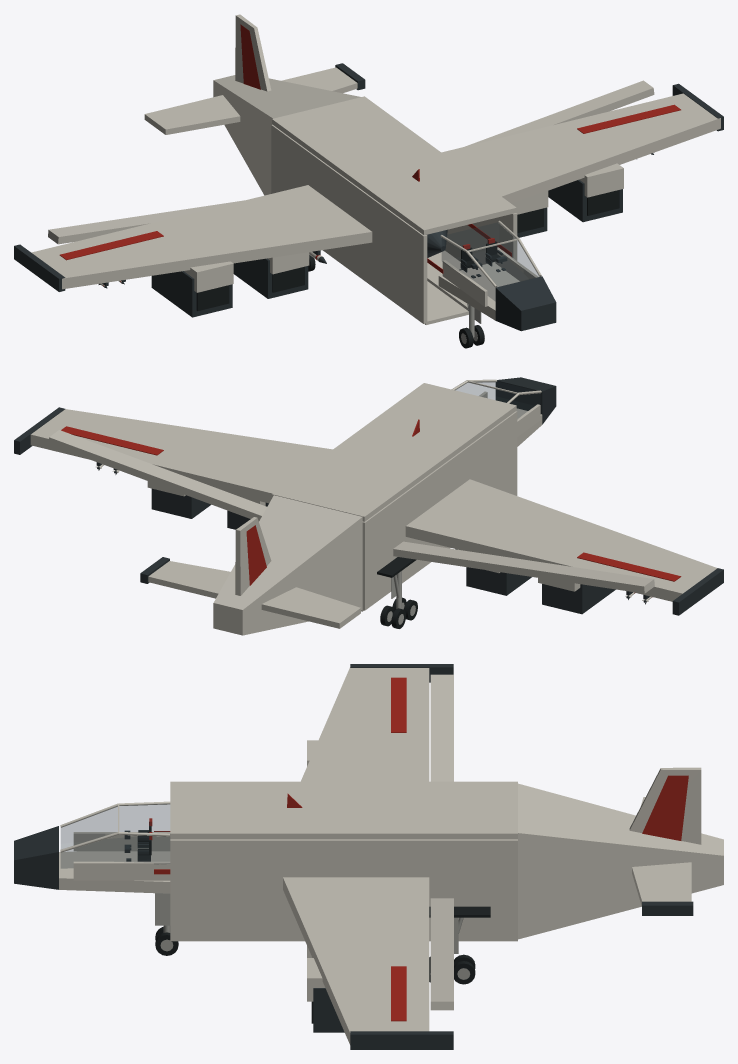
3 renders of one model, top to bottom at view 1: azimuth 30°, elevation 25°; view 2: azimuth 150°, elevation 25°; view 3: azimuth 270°, elevation 25°, orthographic. The views are drawn at different scales.
Visible parts, largest first — view 1: bomber-painted, bomber-glazing, flap-right-painted, flap-left-painted, bomber-bay-door-left-painted, crew-seating-batch-painted, bomber-bay-door-right-painted; view 2: bomber-painted, flap-left-painted, flap-right-painted, bomber-glazing; view 3: bomber-painted, bomber-glazing, flap-right-painted, flap-left-painted, breakaway-1-painted, crew-seating-batch-painted.
Part boxes in pixels (x1,y1,x2,y2): bomber-painted: [14, 14, 723, 331]; bomber-glazing: [442, 222, 539, 300]; flap-right-painted: [465, 80, 654, 146]; flap-left-painted: [48, 200, 244, 244]; bomber-bay-door-left-painted: [425, 281, 468, 324]; crew-seating-batch-painted: [460, 238, 507, 278]; bomber-bay-door-right-painted: [427, 250, 468, 310]; bomber-painted: [14, 377, 723, 635]; flap-left-painted: [393, 541, 654, 593]; flap-right-painted: [48, 430, 266, 521]; bomber-glazing: [456, 381, 540, 418]; bomber-painted: [14, 664, 723, 1049]; bomber-glazing: [61, 804, 169, 868]; flap-right-painted: [430, 898, 453, 1010]; flap-left-painted: [430, 674, 453, 781]; breakaway-1-painted: [642, 901, 693, 915]; crew-seating-batch-painted: [124, 818, 152, 861].
Bounding box in the file's own units: 195 × 44.83 × 158.
